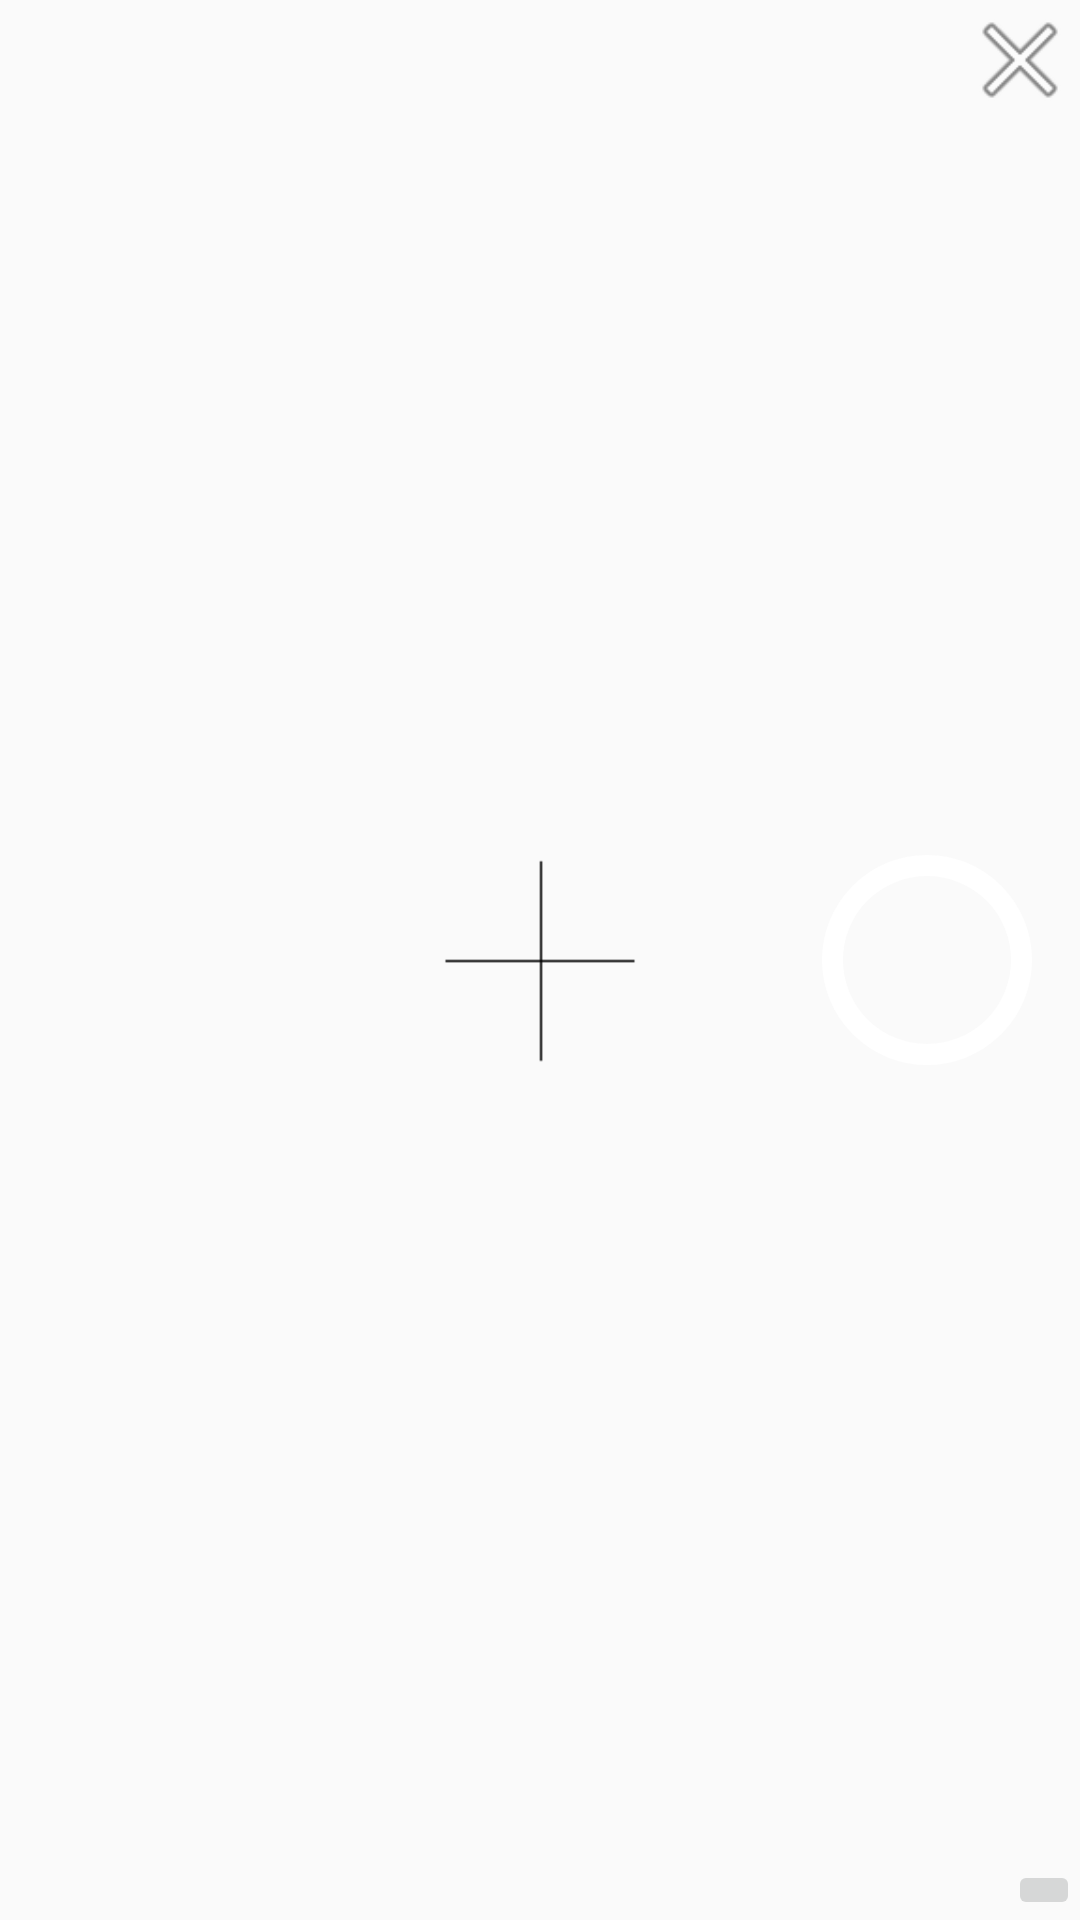

Icons on this 1080*1920 Android screen, each with the point to tap as point (x, y):
close clear cancel: point (1020, 60)
